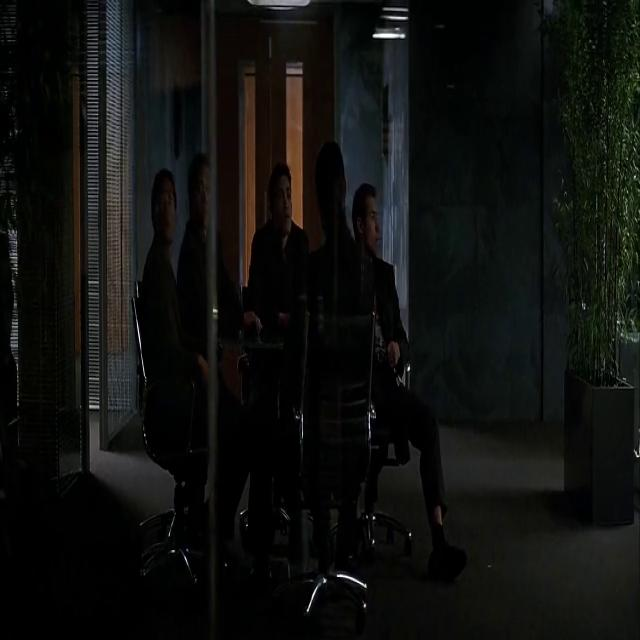People: (364, 152, 433, 572), (184, 137, 259, 434), (297, 120, 367, 417), (249, 147, 317, 440), (134, 157, 196, 431)
Table: (193, 291, 403, 640)
chair: (313, 294, 381, 604), (115, 282, 180, 569)
